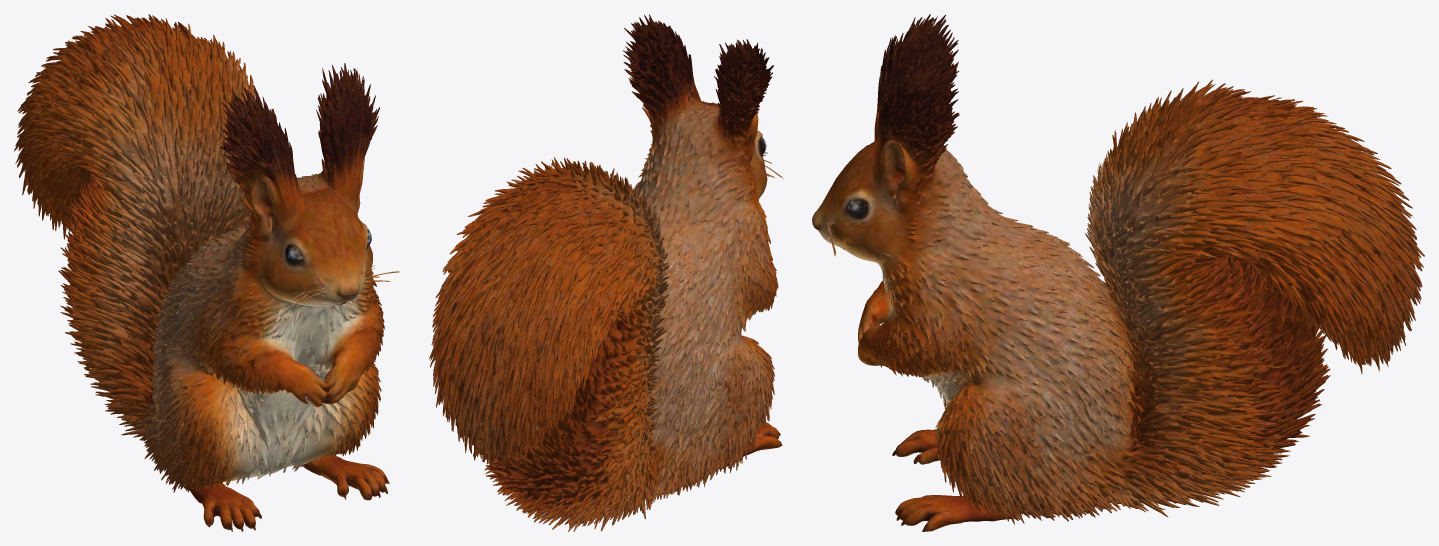
The model's file is squirrel.meshopt.glb.
The picture shows the model from 3 angles, left to right: view 1: azimuth 30°, elevation 25°; view 2: azimuth 150°, elevation 25°; view 3: azimuth 270°, elevation 25°; orthographic projection. The views are drawn at different scales.
Parts seen in each view (by area): view 1: squirrel; view 2: squirrel; view 3: squirrel.
Part boxes in pixels (<box>): squirrel: <box>14,14,399,531</box>; squirrel: <box>429,14,783,531</box>; squirrel: <box>812,14,1424,531</box>.
Bounding box in the file's own units: 0.1538 × 0.2969 × 0.3707.
Materials: 1 (1 with a texture image).
